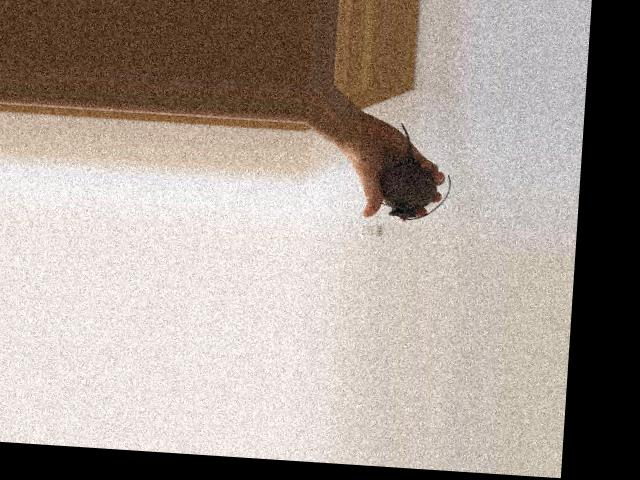beet: (380, 122, 455, 223)
